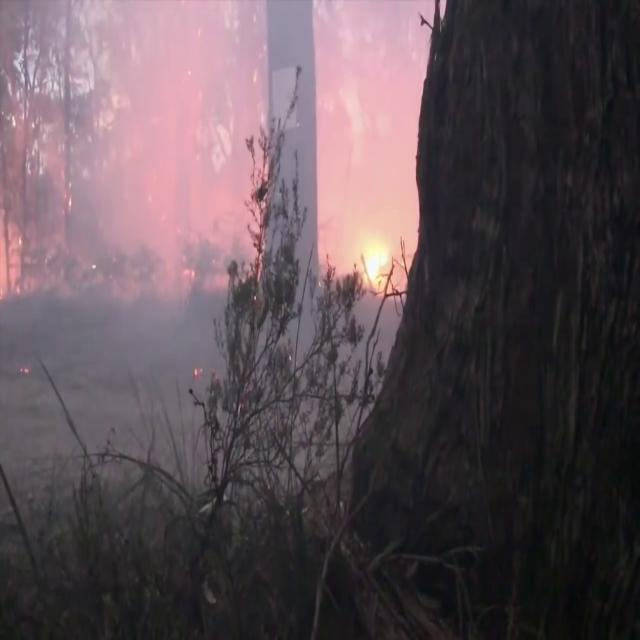Fire: (349, 219, 395, 297)
Smoke: (5, 0, 401, 457)
